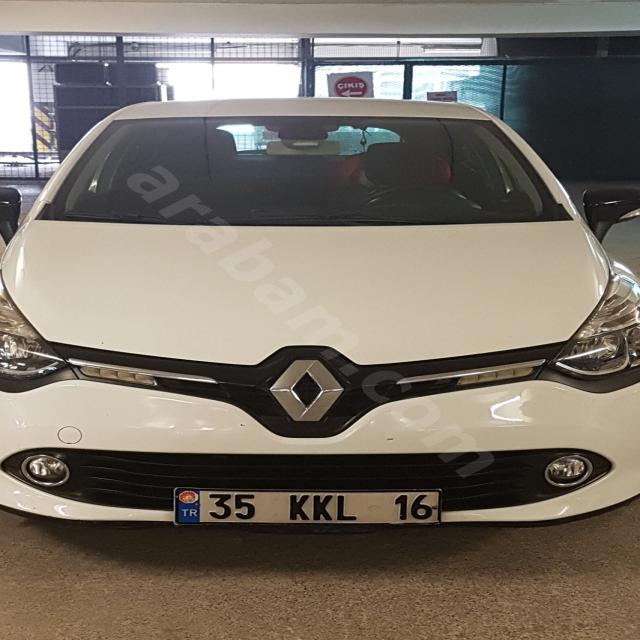license_plate: (174, 487, 443, 525)
